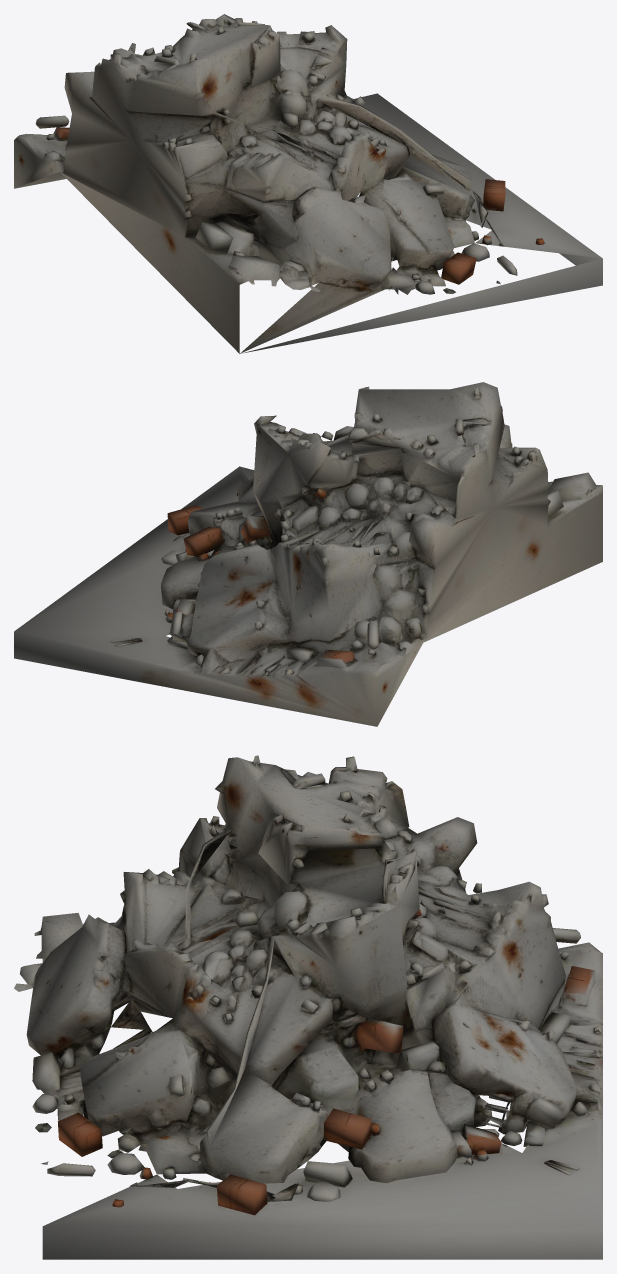
The model's file is rubble_pile.glb.
The picture shows the model from 3 angles, top to bottom: view 1: azimuth 30°, elevation 25°; view 2: azimuth 150°, elevation 25°; view 3: azimuth 270°, elevation 25°; orthographic projection. The views are drawn at different scales.
Visible parts, largest first — view 1: tripo_node_c572372b-1c04-41e6-99ca-6be2f9628742; view 2: tripo_node_c572372b-1c04-41e6-99ca-6be2f9628742; view 3: tripo_node_c572372b-1c04-41e6-99ca-6be2f9628742.
Boxes of the visible parts, <box> form: tripo_node_c572372b-1c04-41e6-99ca-6be2f9628742: <box>14,14,602,353</box>; tripo_node_c572372b-1c04-41e6-99ca-6be2f9628742: <box>14,382,602,726</box>; tripo_node_c572372b-1c04-41e6-99ca-6be2f9628742: <box>14,755,602,1259</box>.
Size of the model in its own units: 0.8848 by 0.5762 by 0.998.
1 material, 1 textured.
